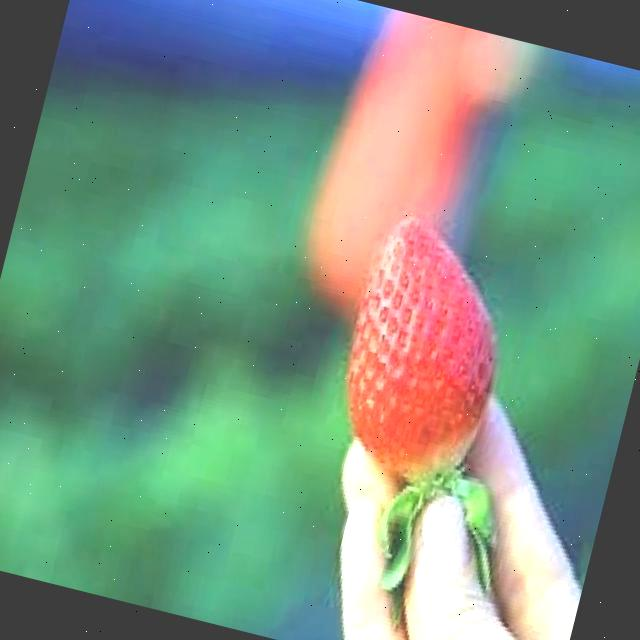ripe: (321, 210, 528, 494)
